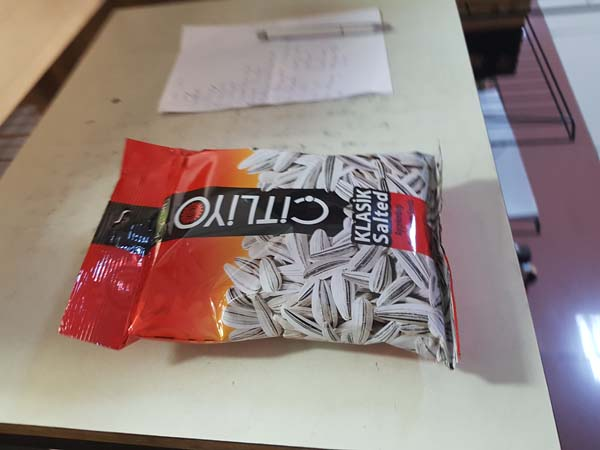citliyorklasik: (51, 132, 469, 374)
